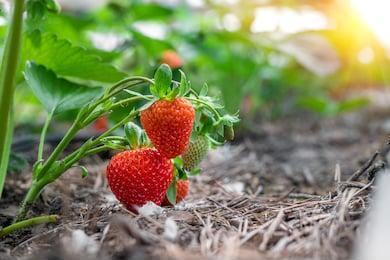Fresa: (100, 144, 177, 220), (134, 93, 201, 163)
